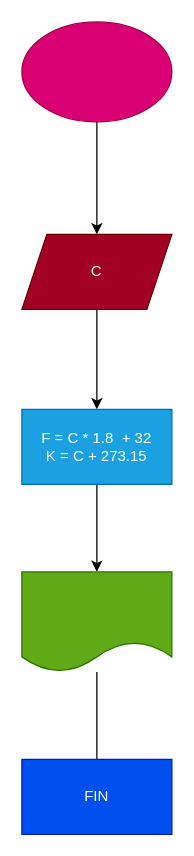
Image size: 194x856. Some labels were removed from this diagram. Here are the shapes that lost their labels. From the top down, the box of each, then its label:
(21, 21, 172, 122): INICIO
(21, 571, 172, 672): F.K
